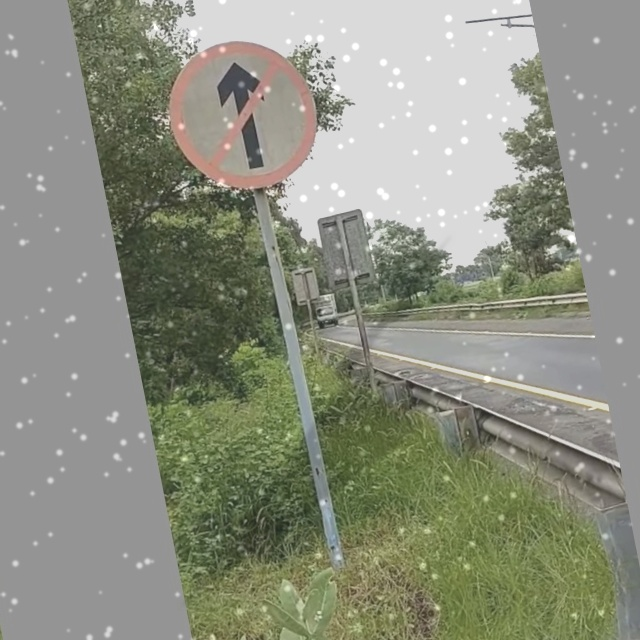No_Entry: (156, 30, 331, 200)
